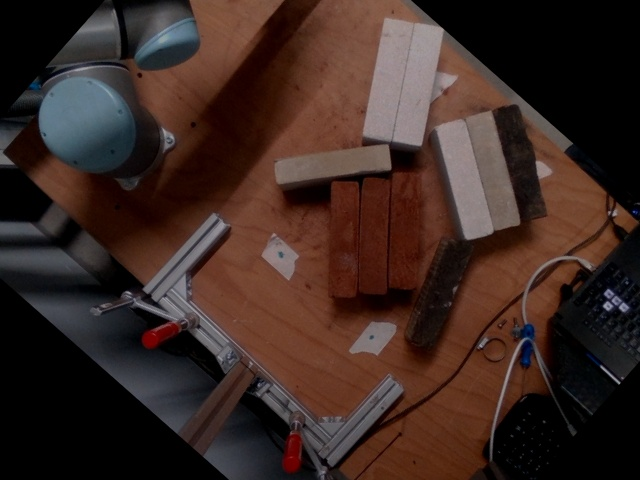brick-side: (440, 121, 492, 235), (414, 244, 471, 344), (470, 114, 519, 228), (395, 28, 443, 143), (497, 106, 546, 217), (365, 23, 411, 138), (280, 147, 389, 180), (391, 174, 419, 286), (361, 179, 387, 291), (333, 184, 357, 295)
